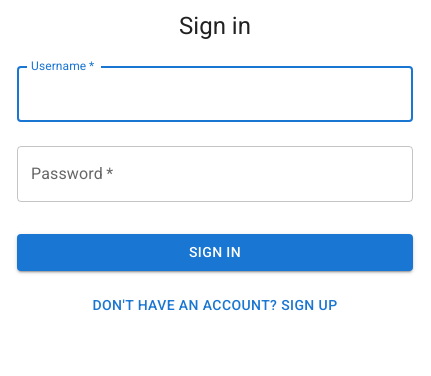
LoginPage › shows error message on failed login
Type "testuser" into the field labelled "Username *" at (215, 94), box [17,66,413,122]
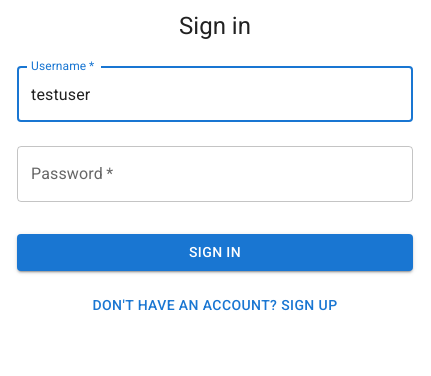
Type "wrongpassword" into the password field labelled "Password *" at (215, 174), box [17,146,413,202]
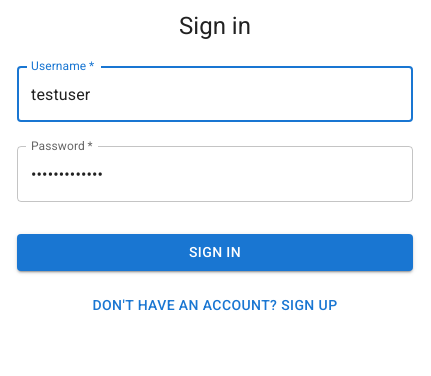
Click the button "Sign In" at (215, 252), box [17,234,413,270]
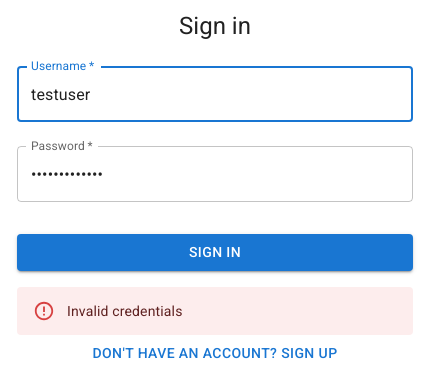
Expected: the text "Invalid credentials" is shown, [67,302,182,318]
